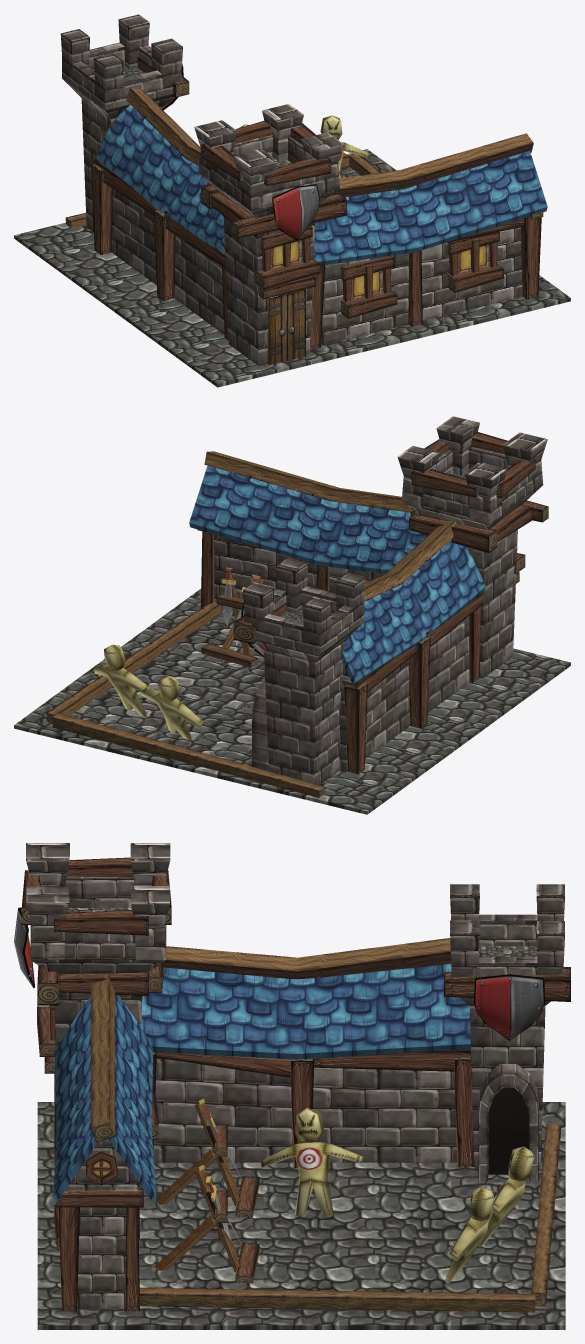
The model's file is barracks.FBX.
3 renders of one model, top to bottom at view 1: azimuth 30°, elevation 25°; view 2: azimuth 150°, elevation 25°; view 3: azimuth 270°, elevation 25°, orthographic. The views are drawn at different scales.
Visible parts, largest first — view 1: bedrock021, roof_barracks_1, wall, head_tower, roof_barracks_2, head_tower002, wall001, tower, wood_window (×6), large_wood, door001, shield (+19 smaller); view 2: bedrock021, roof_barracks_1, head_tower, tower002, roof_barracks_2, head_tower002, wall001, tower, madera003, wall, large_wood, madera002 (+17 smaller); view 3: bedrock021, roof_barracks_2, wall001, head_tower, roof_barracks_1, head_tower002, madera002, large_wood001, wall, shield (×2), tower002, large_wood (+26 smaller).
Part boxes in pixels (<box>): bedrock021: <box>14,149,570,387</box>; roof_barracks_1: <box>313,151,547,265</box>; wall: <box>321,227,522,345</box>; head_tower: <box>194,104,344,218</box>; roof_barracks_2: <box>96,104,224,253</box>; head_tower002: <box>60,14,182,118</box>; wall001: <box>111,189,224,334</box>; tower: <box>223,216,314,365</box>; wood_window (×6): <box>254,226,503,318</box>; large_wood: <box>333,133,533,197</box>; door001: <box>267,289,305,365</box>; shield: <box>272,184,320,240</box>; bedrock021: <box>14,588,570,814</box>; roof_barracks_1: <box>189,465,426,573</box>; head_tower: <box>397,416,547,529</box>; tower002: <box>264,641,344,784</box>; roof_barracks_2: <box>342,540,485,683</box>; head_tower002: <box>243,558,365,662</box>; wall001: <box>339,616,469,772</box>; tower: <box>426,529,517,678</box>; madera003: <box>52,713,325,797</box>; wall: <box>214,534,384,616</box>; large_wood: <box>204,451,413,512</box>; madera002: <box>46,602,221,722</box>; bedrock021: <box>37,1102,565,1329</box>; roof_barracks_2: <box>141,963,470,1059</box>; wall001: <box>153,1057,457,1162</box>; head_tower: <box>26,843,170,973</box>; roof_barracks_1: <box>53,994,156,1202</box>; head_tower002: <box>450,884,564,1005</box>; madera002: <box>139,1287,535,1312</box>; large_wood001: <box>163,938,451,979</box>; wall: <box>65,1139,140,1308</box>; shield (×2): <box>14,907,544,1040</box>; tower002: <box>469,1006,545,1170</box>; large_wood: <box>91,974,115,1142</box>.
Size of the model in its own units: 129 by 136 by 77.48.
